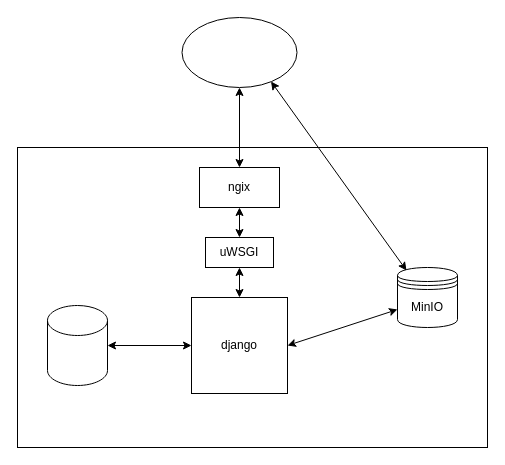
Image size: 505x465. Some labels were removed from this diagram. Here are the shapes that lost their labels. From the top down, the centre of each, then its label:
At pixel 239 52: "client".
At pixel 77 345: "bd".
